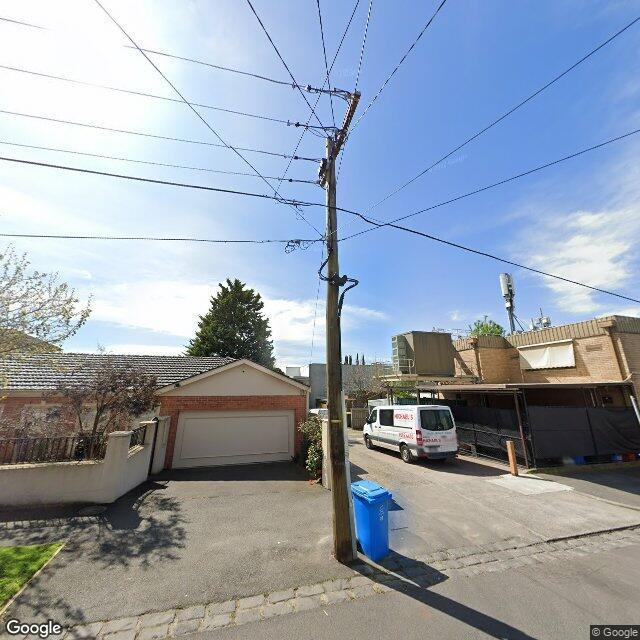crossarm: (320, 91, 360, 186)
timber-pole: (326, 136, 354, 564)
